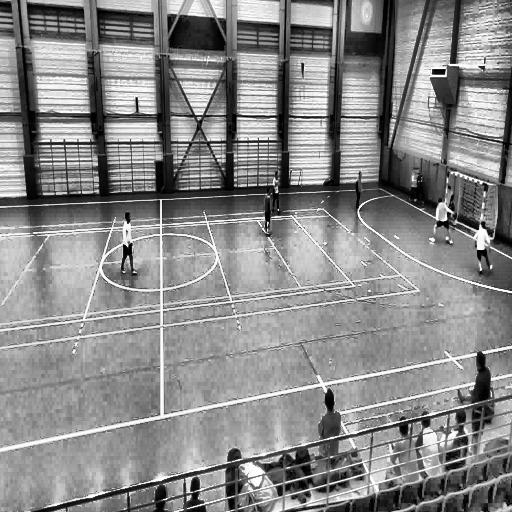ball: (444, 233, 450, 243)
player: (120, 210, 139, 277), (428, 196, 448, 243), (475, 221, 492, 273), (444, 184, 458, 227), (263, 186, 272, 236), (354, 171, 364, 214), (272, 170, 281, 213), (410, 170, 421, 203), (417, 168, 425, 208)
